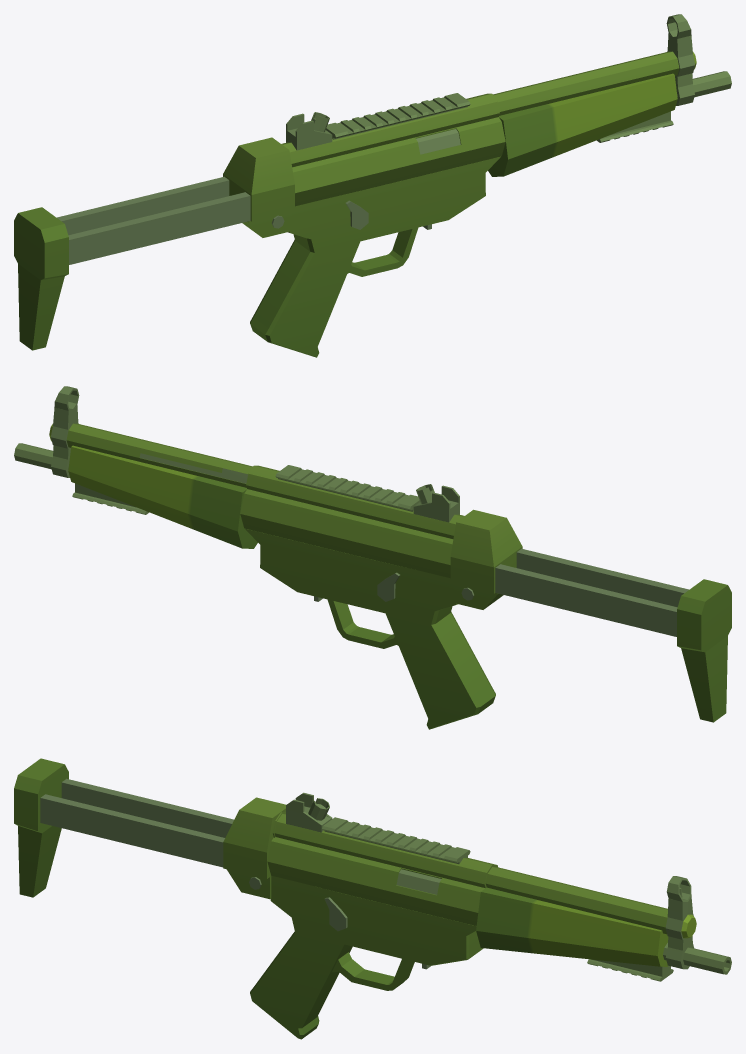
The model's file is SMG2_02.fbx.
The picture shows the model from 3 angles, top to bottom: view 1: azimuth 30°, elevation 25°; view 2: azimuth 150°, elevation 25°; view 3: azimuth 330°, elevation 25°; orthographic projection.
Parts seen in each view (by area): view 1: SMG2_02; view 2: SMG2_02; view 3: SMG2_02.
Part boxes in pixels (x1,y1,x2,y2): SMG2_02: [14, 14, 731, 357]; SMG2_02: [14, 386, 731, 729]; SMG2_02: [14, 758, 731, 1039].
Bounding box in the file's own units: 0.7164 × 0.2409 × 0.0566.
